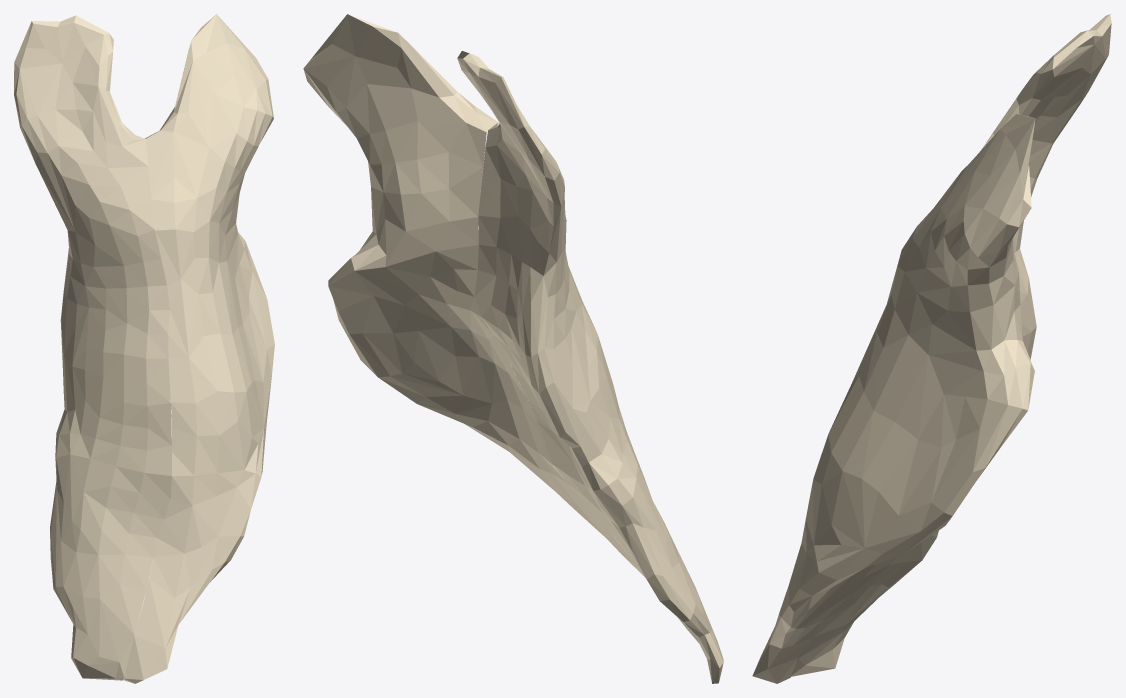
The model's file is VH_M_Thymus_0.4.glb.
3 renders of one model, left to right at view 1: azimuth 30°, elevation 25°; view 2: azimuth 150°, elevation 25°; view 3: azimuth 270°, elevation 25°, orthographic. The views are drawn at different scales.
Parts seen in each view (by area): view 1: VH_M_thymus_lobe_L, VH_M_thymus_lobe_R; view 2: VH_M_thymus_lobe_R, VH_M_thymus_lobe_L; view 3: VH_M_thymus_lobe_R, VH_M_thymus_lobe_L.
Part boxes in pixels (x1,y1,x2,y2): VH_M_thymus_lobe_L: (14, 15, 171, 680); VH_M_thymus_lobe_R: (123, 14, 274, 683); VH_M_thymus_lobe_R: (303, 14, 645, 577); VH_M_thymus_lobe_L: (457, 51, 723, 683); VH_M_thymus_lobe_R: (752, 114, 1035, 683); VH_M_thymus_lobe_L: (791, 14, 1111, 676).
Size of the model in its own units: 0.0372 by 0.0757 by 0.0354.
